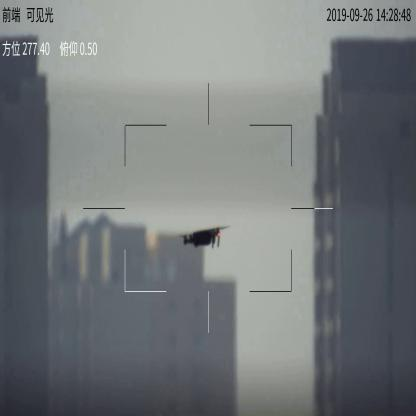uav: (171, 223, 229, 253)
